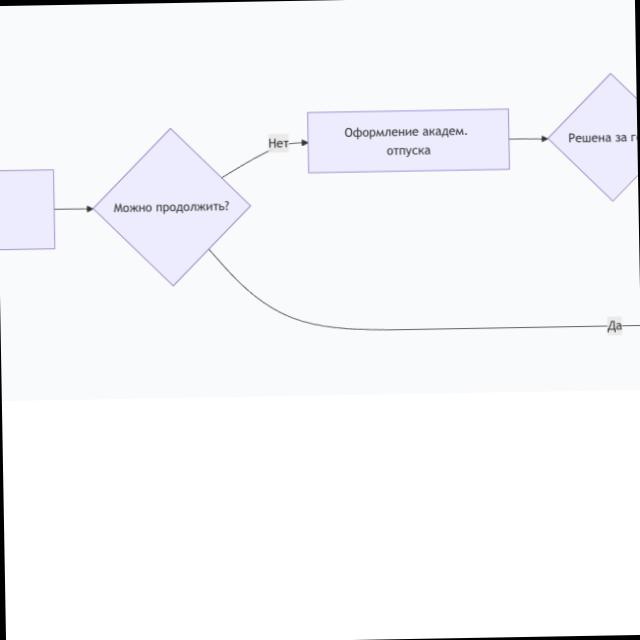arrow: (220, 137, 308, 178), (53, 202, 93, 216), (509, 133, 548, 145)
diamond: (94, 128, 251, 286)
rectangle: (307, 108, 510, 173)
text_region: (269, 137, 289, 150), (607, 320, 622, 335)
